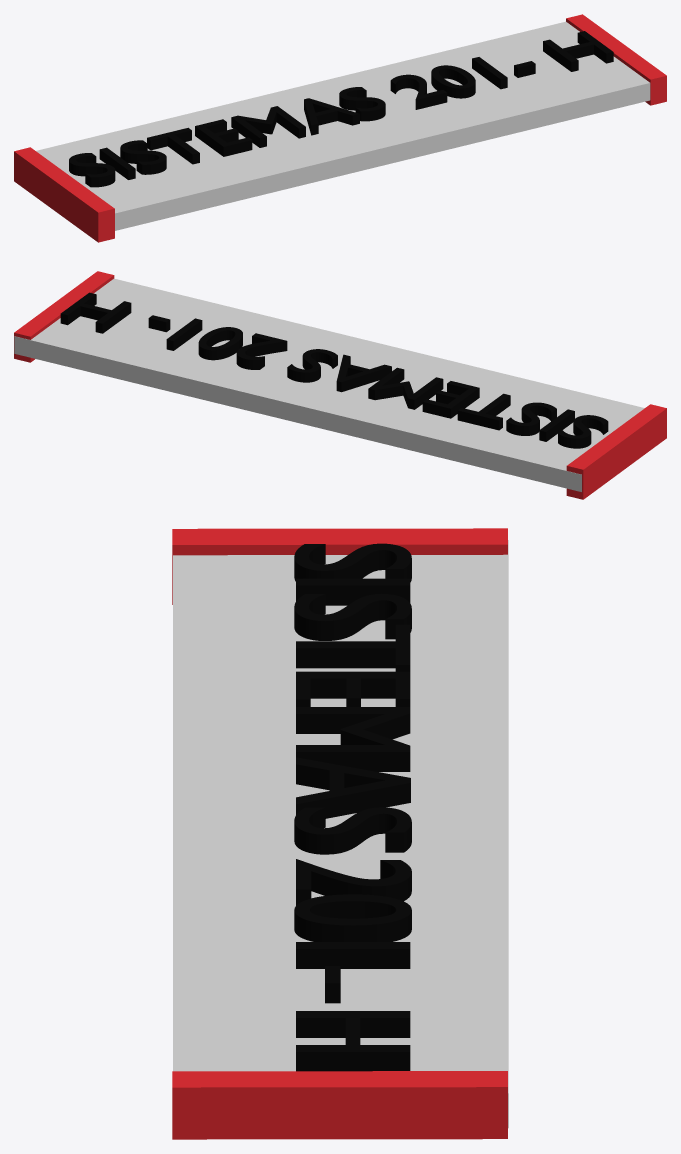
Rendered from Sistemas201H.fbx.
3 renders of one model, top to bottom at view 1: azimuth 30°, elevation 25°; view 2: azimuth 150°, elevation 25°; view 3: azimuth 270°, elevation 25°, orthographic. The views are drawn at different scales.
Visible parts, largest first — view 1: Cube, Texto.001, Cubo, Cubo.001; view 2: Cube, Texto.001, Cubo, Cubo.001; view 3: Cube, Texto.001, Cubo.001, Cubo.
Part boxes in pixels (x1,y1,x2,y2): Cube: (36,21,650,230); Texto.001: (69,31,613,187); Cubo: (14,147,114,242); Cubo.001: (566,14,666,105); Cube: (14,278,644,491); Texto.001: (60,292,608,448); Cubo: (566,404,666,499); Cubo.001: (14,271,114,362); Cube: (173,540,508,1128); Texto.001: (294,543,411,1071); Cubo.001: (172,1071,507,1139); Cubo: (172,528,507,604).
Bounding box in the file's own units: 783 × 45.87 × 200.
